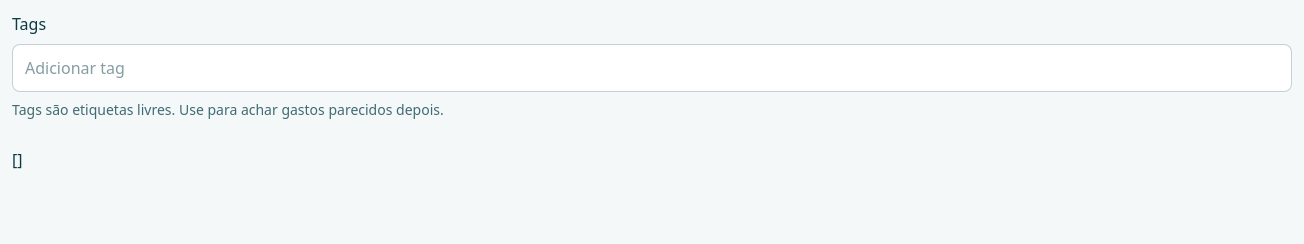
Test: TagInput › suggests the family tags that start with what is typed, ignoring case
Type "esc" into the dropdown labelled "Tags" at x=652, y=68, box [12,44,1292,92]
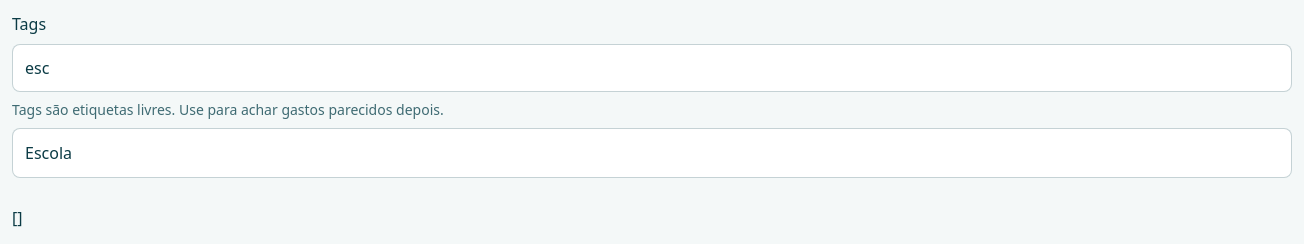
Expected: the option "Escola" is shown, [25,142,72,164]
